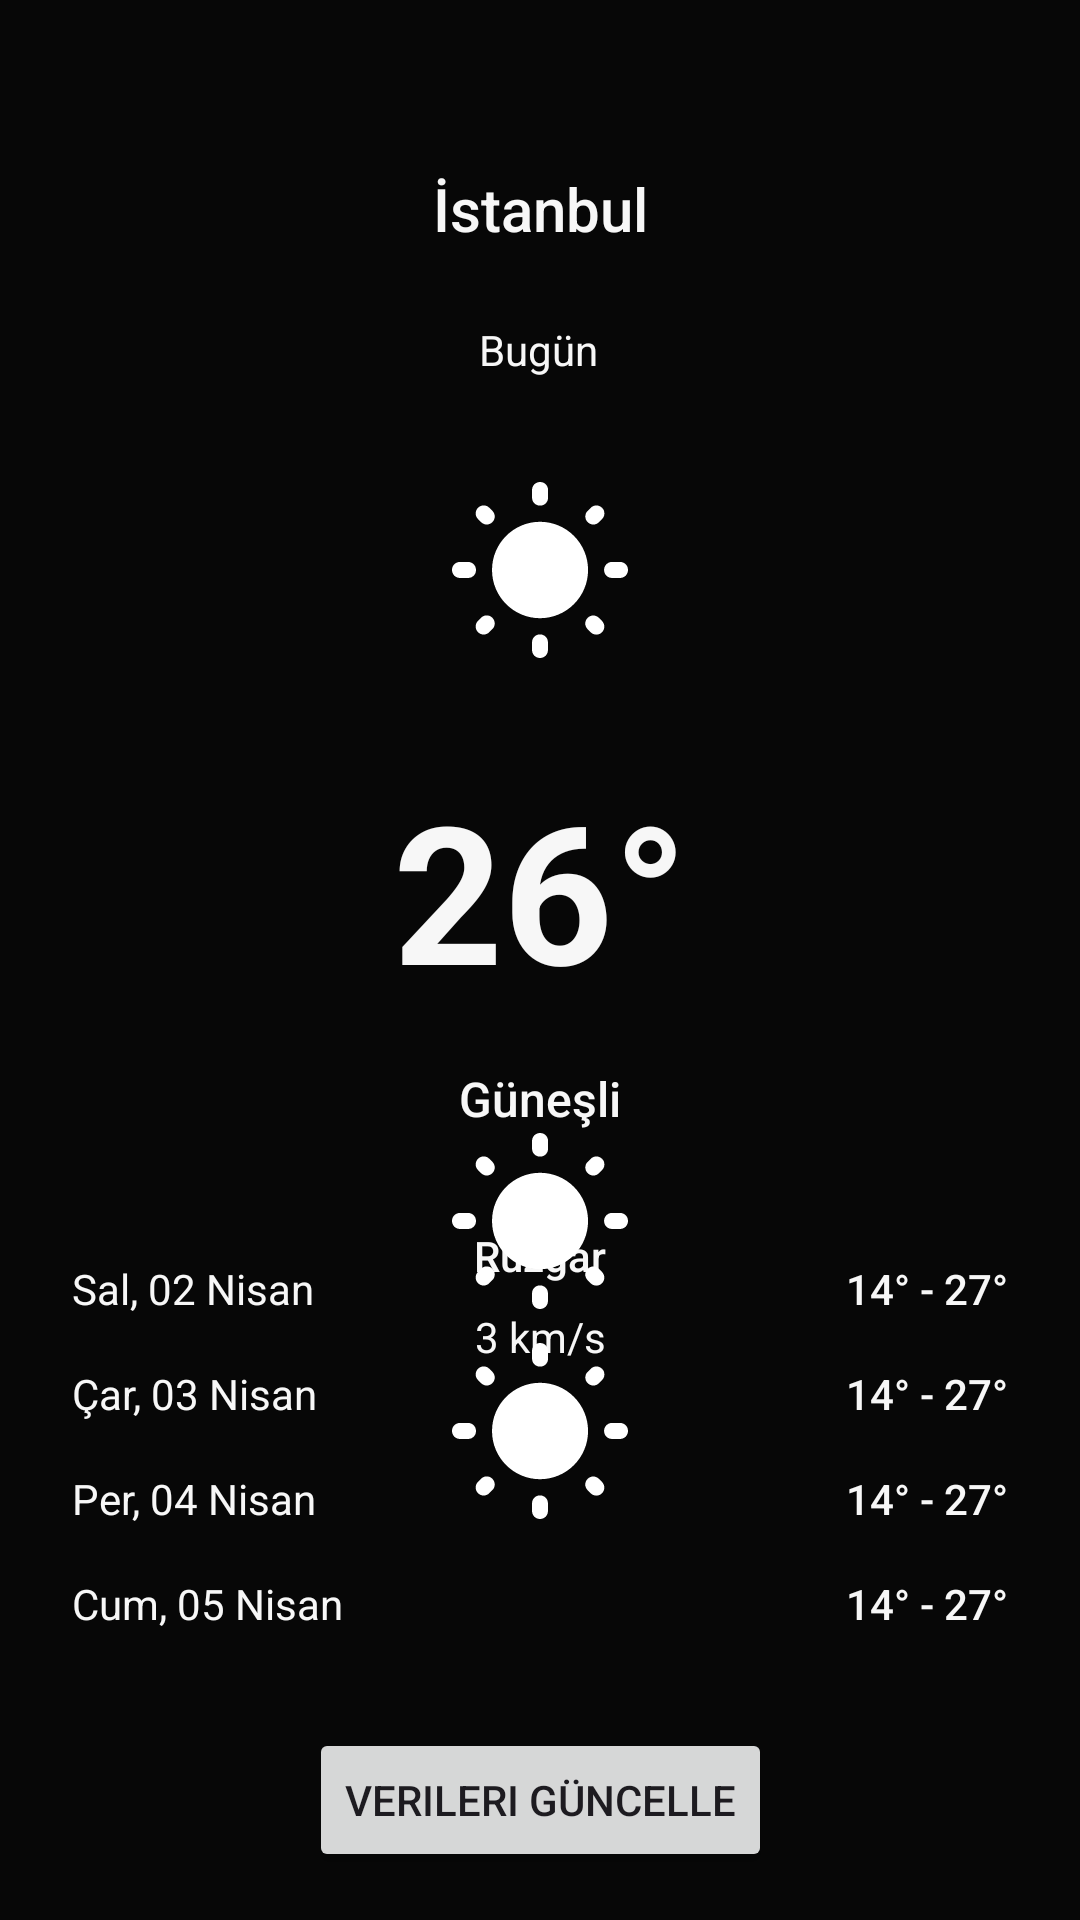

Point at icon controls on the screen. Image size 1080px×1920px, points as (x,y).
weather situation image: (540,570)
